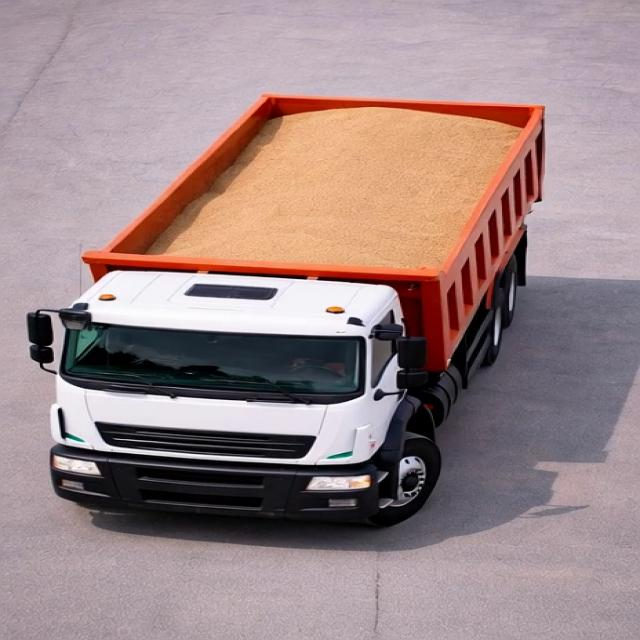Box: (92, 100, 541, 280)
Truck: (28, 73, 562, 519)
